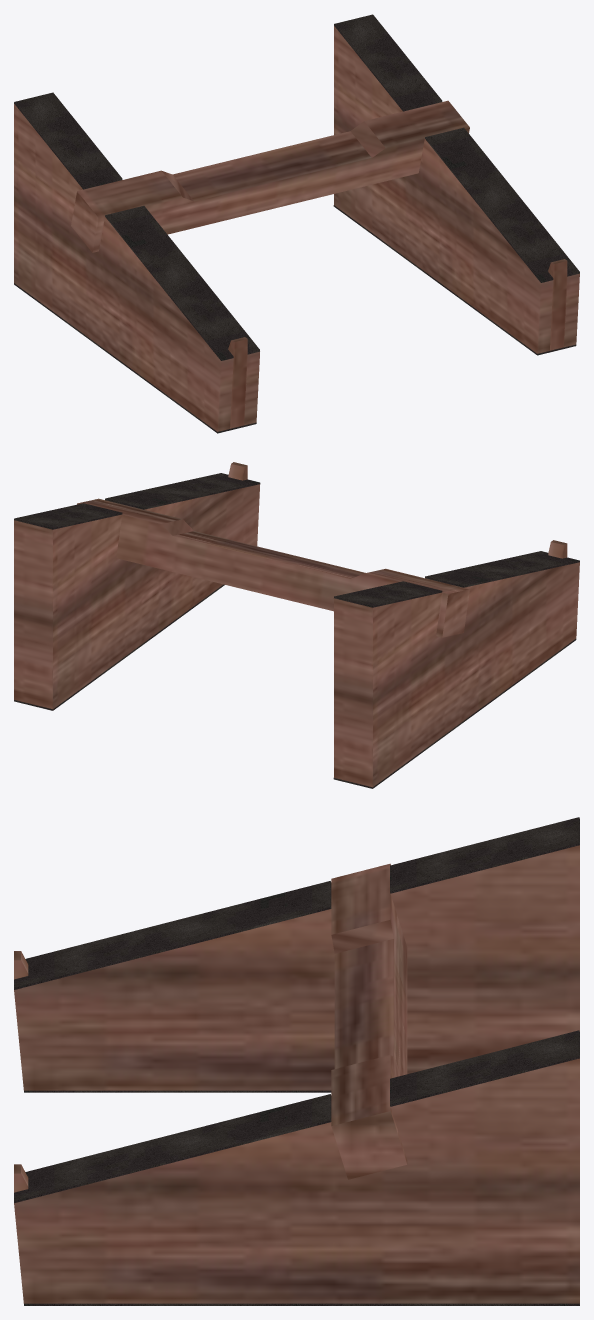
The model's file is base-baja-de-laptop-saman.glb.
3 views of the same model, one above another, from view 1: azimuth 30°, elevation 25°; view 2: azimuth 150°, elevation 25°; view 3: azimuth 270°, elevation 25° (orthographic). The views are drawn at different scales.
Bounding box in the file's own units: 0.238 × 0.112 × 0.23.
4 materials, 4 textured.
